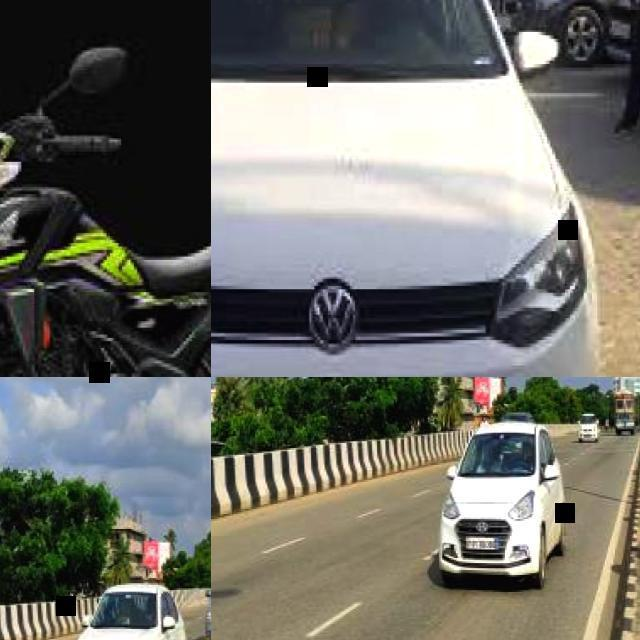car: (170, 0, 598, 369), (442, 424, 565, 590), (39, 582, 184, 639), (615, 390, 637, 434), (577, 411, 598, 443)
